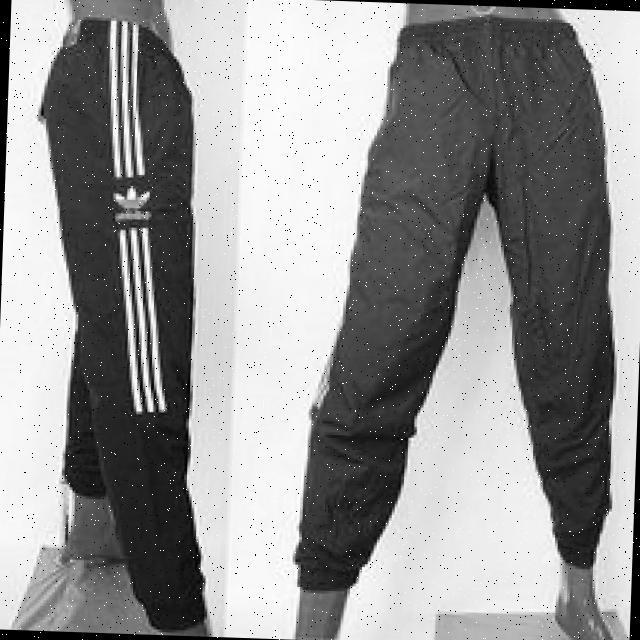Adidas: (95, 170, 161, 228)
